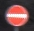No entry: (5, 5, 29, 26)
